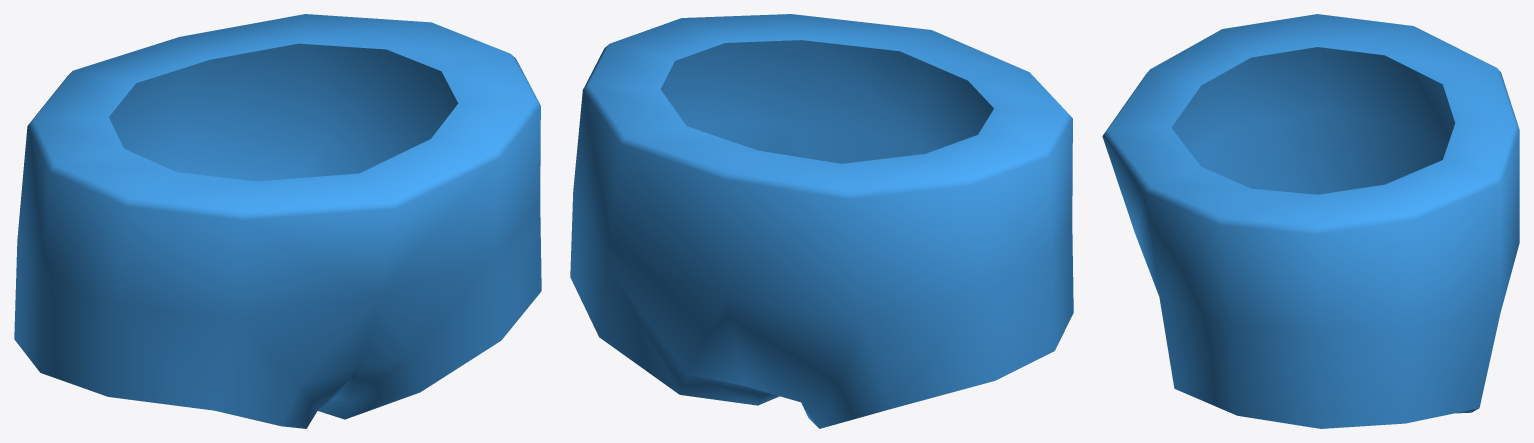
File: Pants_Blue_005.glb
3 renders of one model, left to right at view 1: azimuth 30°, elevation 25°; view 2: azimuth 150°, elevation 25°; view 3: azimuth 270°, elevation 25°, orthographic. The views are drawn at different scales.
Parts seen in each view (by area): view 1: Pants_Blue_005; view 2: Pants_Blue_005; view 3: Pants_Blue_005.
Part boxes in pixels (left/top/right/bottom): Pants_Blue_005: left=14, top=14, right=541, bottom=428; Pants_Blue_005: left=570, top=14, right=1073, bottom=428; Pants_Blue_005: left=1102, top=14, right=1519, bottom=428.
Size of the model in its own units: 0.4529 by 0.2677 by 0.3561.
1 material, 1 textured.
